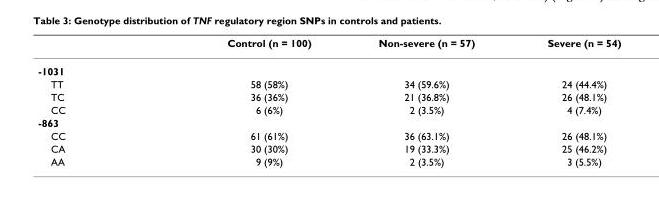table: (37, 36, 620, 167)
table column: (145, 36, 344, 167), (344, 36, 510, 167), (510, 36, 620, 167), (37, 36, 145, 167)
table column header: (37, 36, 620, 56)
table projected row header: (37, 56, 620, 77), (37, 115, 620, 128)
table row: (37, 56, 620, 77), (37, 36, 620, 56), (37, 77, 620, 90), (37, 102, 620, 115), (37, 115, 620, 128), (37, 128, 620, 141), (37, 141, 620, 154), (37, 154, 620, 167), (37, 90, 620, 102)
